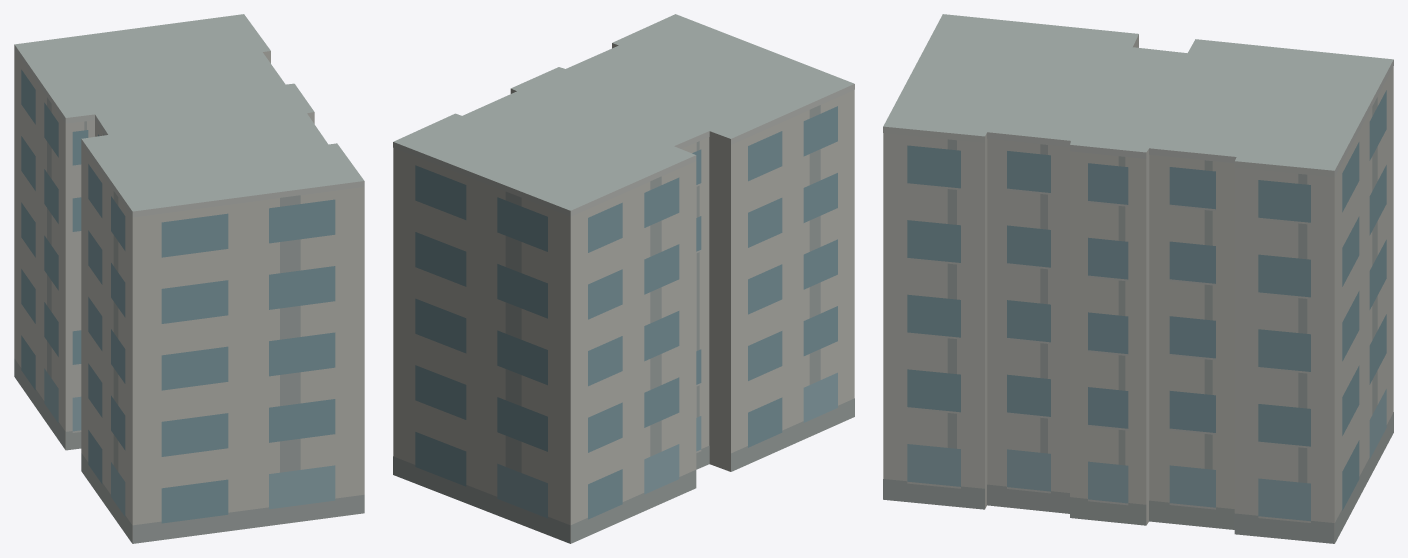
Rendered from survey-upis-32676888.glb.
3 renders of one model, left to right at view 1: azimuth 30°, elevation 25°; view 2: azimuth 150°, elevation 25°; view 3: azimuth 270°, elevation 25°, orthographic. The views are drawn at different scales.
Visible parts, largest first — view 1: survey-upis-32676888.tmp; view 2: survey-upis-32676888.tmp; view 3: survey-upis-32676888.tmp.
Part boxes in pixels (x1,y1,x2,y2): survey-upis-32676888.tmp: [14, 14, 364, 543]; survey-upis-32676888.tmp: [393, 14, 854, 543]; survey-upis-32676888.tmp: [883, 14, 1393, 543].
Bounding box in the file's own units: 12.53 × 13.9 × 17.25.
